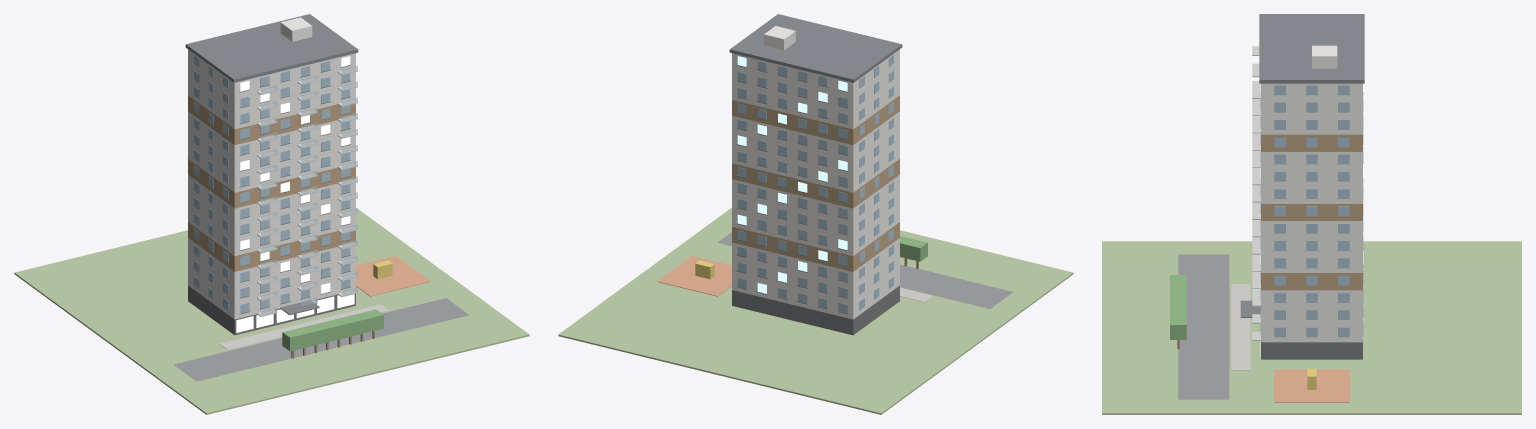
Rendered from building-c.glb.
The picture shows the model from 3 angles, left to right: view 1: azimuth 30°, elevation 25°; view 2: azimuth 150°, elevation 25°; view 3: azimuth 270°, elevation 25°; orthographic projection. The views are drawn at different scales.
Bounding box in the file's own units: 64 × 51 × 66.
